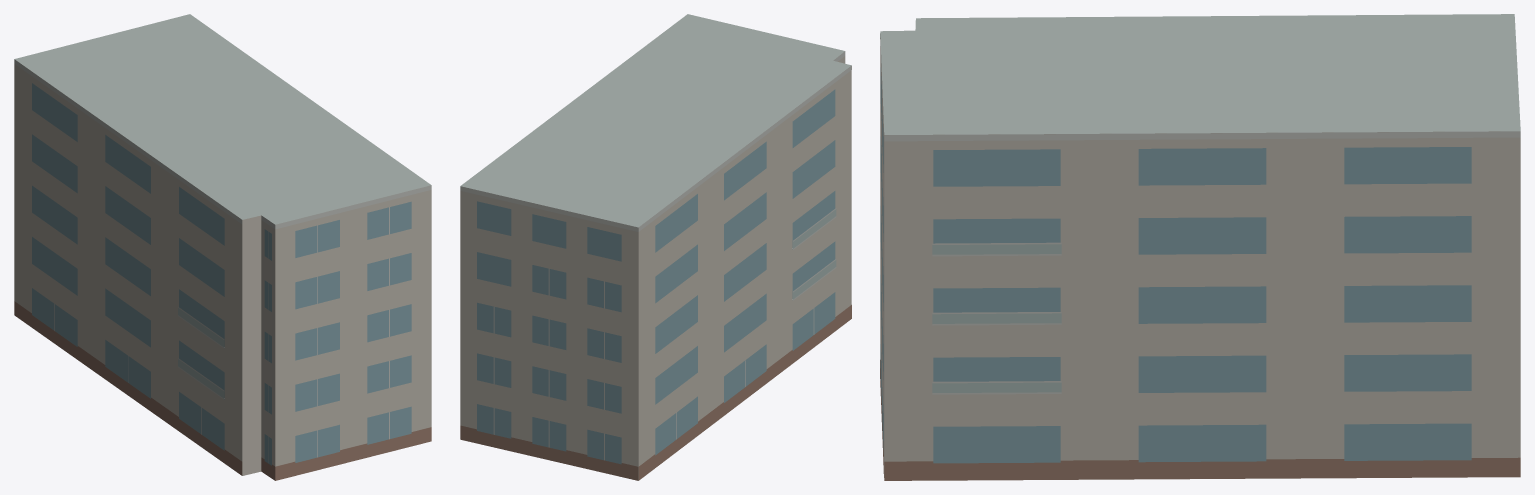
File: survey-upis-32662683.glb
3 renders of one model, left to right at view 1: azimuth 30°, elevation 25°; view 2: azimuth 150°, elevation 25°; view 3: azimuth 270°, elevation 25°, orthographic. The views are drawn at different scales.
Visible parts, largest first — view 1: survey-upis-32662683.tmp; view 2: survey-upis-32662683.tmp; view 3: survey-upis-32662683.tmp.
Boxes of the visible parts, bbox=[...] form: survey-upis-32662683.tmp: bbox=[14, 14, 431, 480]; survey-upis-32662683.tmp: bbox=[460, 14, 851, 480]; survey-upis-32662683.tmp: bbox=[880, 14, 1520, 480].
Size of the model in its own units: 10.12 by 13.45 by 22.59.
